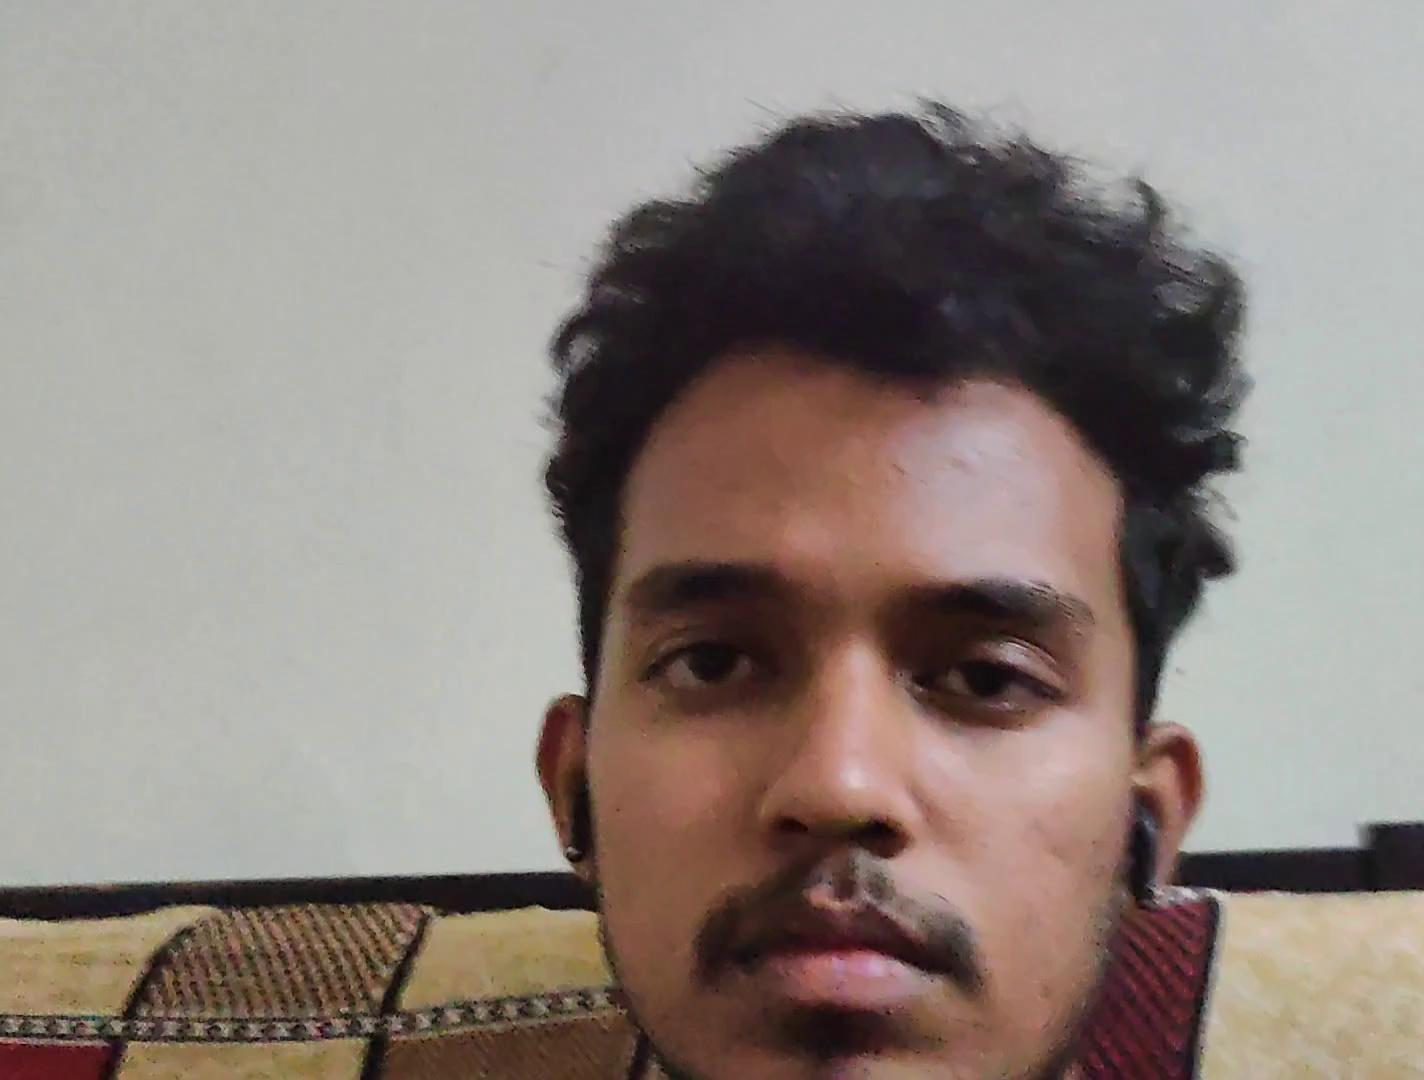face: (584, 357, 1139, 1078)
